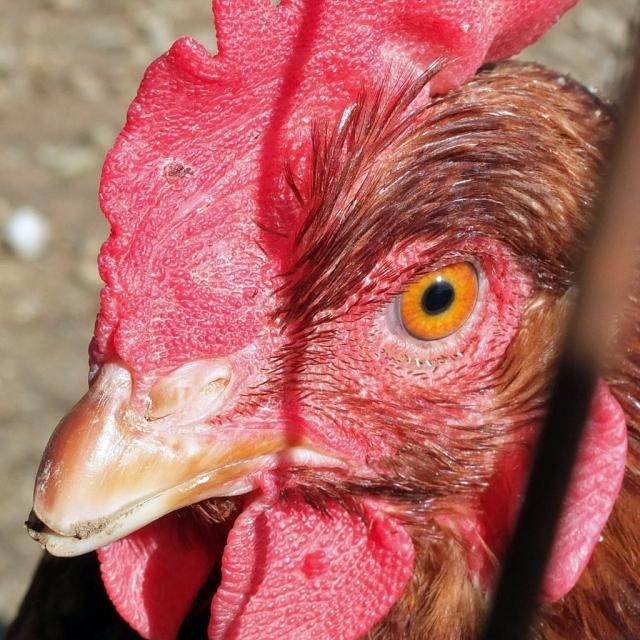Chicken: (23, 0, 640, 640)
